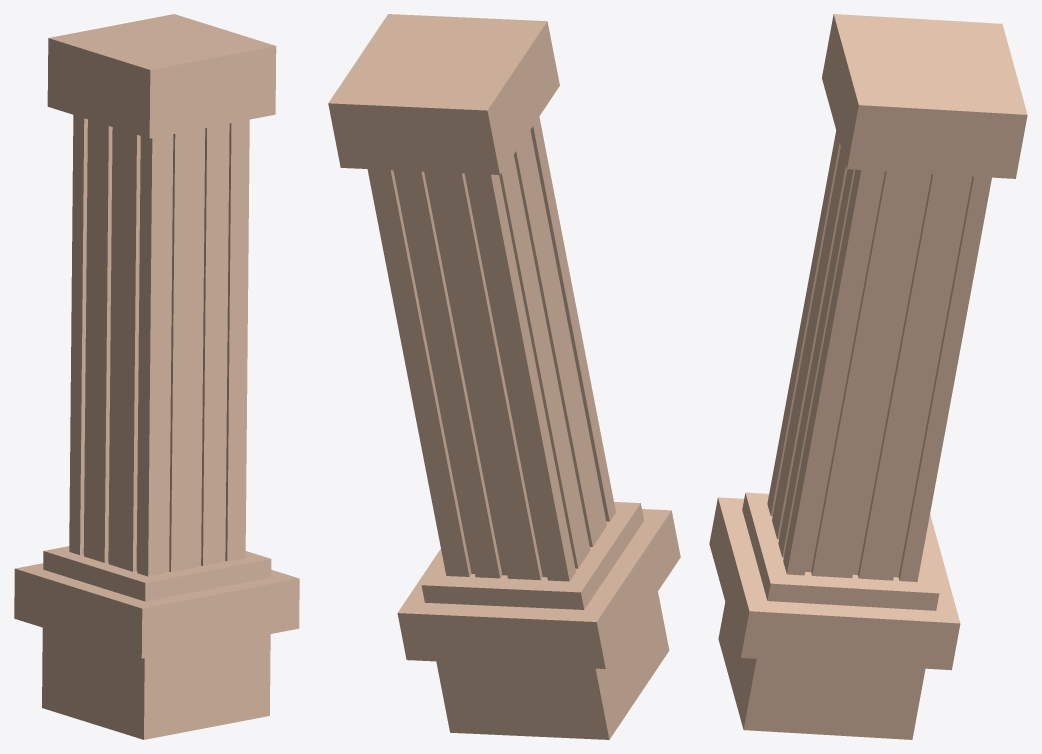
File: ruins.gltf
3 renders of one model, left to right at view 1: azimuth 30°, elevation 25°; view 2: azimuth 150°, elevation 25°; view 3: azimuth 270°, elevation 25°, orthographic. The views are drawn at different scales.
Parts seen in each view (by area): view 1: pCube2, pCube1, pCube3, pCube4; view 2: pCube2, pCube3, pCube1, pCube4; view 3: pCube2, pCube3, pCube1, pCube4.
Boxes of the visible parts, bbox=[...] form: pCube2: bbox=[69, 115, 249, 576]; pCube1: bbox=[42, 546, 271, 739]; pCube3: bbox=[47, 14, 276, 138]; pCube4: bbox=[14, 563, 299, 658]; pCube2: bbox=[367, 117, 615, 581]; pCube3: bbox=[328, 14, 559, 174]; pCube1: bbox=[421, 502, 669, 739]; pCube4: bbox=[397, 509, 680, 668]; pCube2: bbox=[767, 131, 991, 581]; pCube3: bbox=[822, 14, 1027, 178]; pCube1: bbox=[718, 492, 939, 739]; pCube4: bbox=[709, 497, 960, 670].
Bounding box in the file's own units: 3.25 × 8.7 × 3.6.
